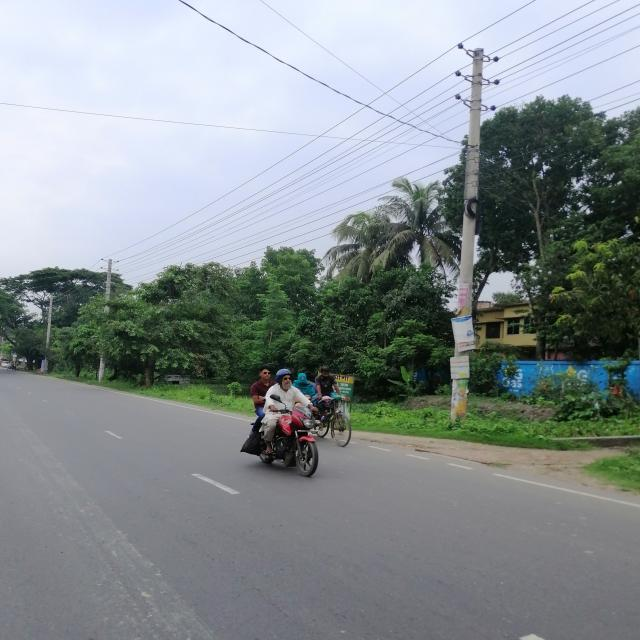Motorbike: (247, 405, 329, 486)
